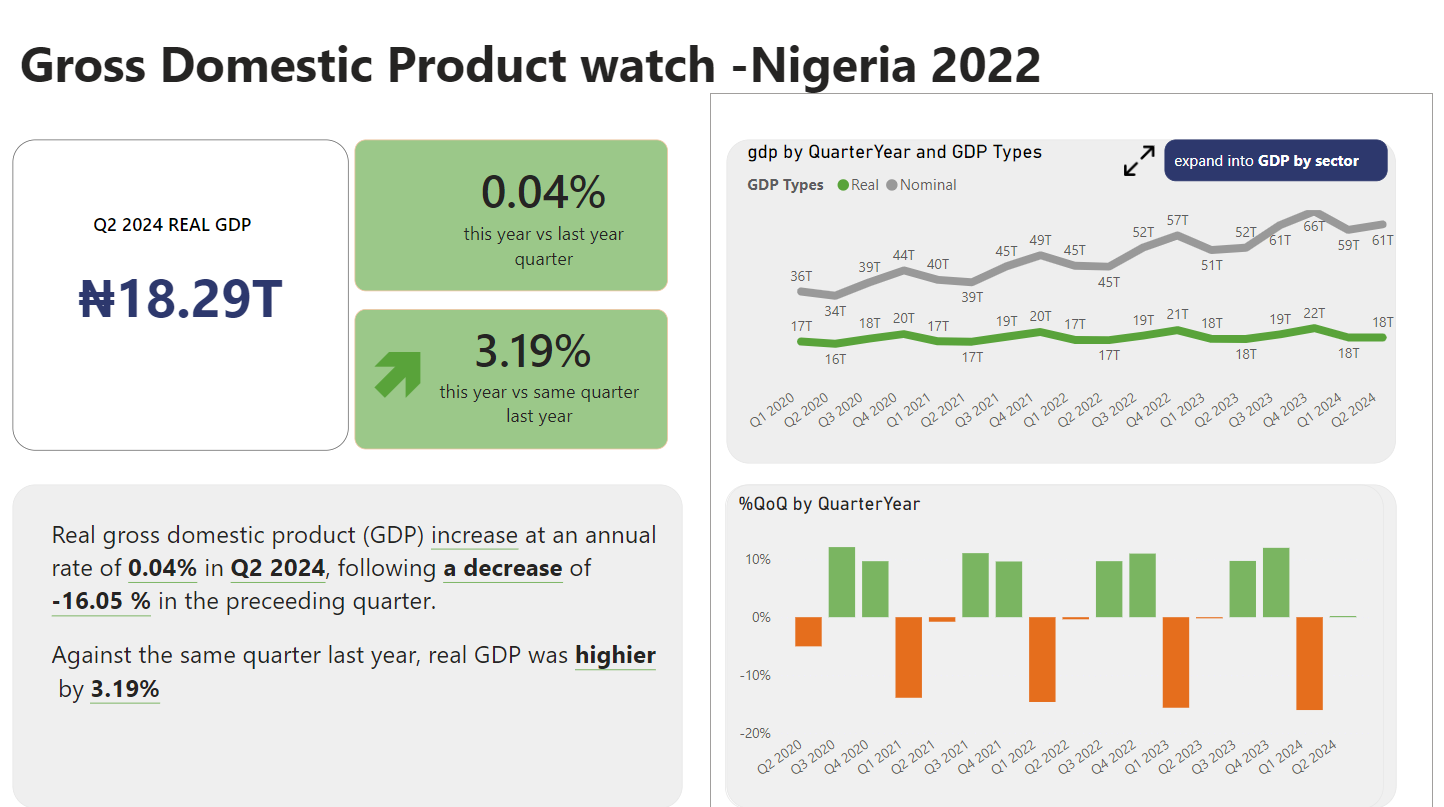

What the dashboard file says about the page in this screenshot:
{"tool":"powerbi","page":{"name":"Page 1","canvas":[1366,768],"ordinal":0},"visuals":[{"type":"textbox","box":[394.4,153.7,275.1,133.5],"z":0},{"type":"textbox","title":"YoY Backgrournd ","box":[394.4,303.4,275.1,123.4],"z":1000},{"type":"textbox","box":[95.1,52.6,956.7,85],"z":2000},{"type":"card","fields":{"Values":["Measures_.%YoY"]},"box":[479.4,303.4,141.6,68.8],"z":3000},{"type":"card","fields":{"Values":["Measures_.%QoQ"]},"box":[467.2,163.8,184.1,68.8],"z":4000},{"type":"card","fields":{"Values":["Measures_.YoY indicator"]},"box":[392.4,311.5,76.9,91],"z":5000},{"type":"card","fields":{"Values":["Measures_.Curent real gdp"]},"box":[93,153.7,295.3,273.1],"z":6000},{"type":"textbox","box":[461.2,358,190.1,54.6],"z":7000},{"type":"textbox","box":[720.8,154.6,588.2,284.4],"z":8000},{"type":"lineChart","fields":{"Y":["Measures_.gdp"],"Series":["GDP.GDP Types "],"Category":["Date_Table.QuarterYear"]},"box":[734.6,154.6,579.9,276.2],"z":9000},{"type":"textbox","box":[93.3,457.1,588.8,284.8],"z":11000},{"type":"textbox","box":[465.2,220.5,190.1,54.6],"z":12000},{"type":"textbox","box":[720.5,457.1,588.8,284.8],"z":13000},{"type":"textbox","box":[1106.2,154.8,196.3,36.7],"z":14000},{"type":"multiRowCard","fields":{"Values":["Measures_.Curent real gdp Tex"]},"box":[159.8,212.4,163.8,40.5],"z":15000},{"type":"clusteredColumnChart","fields":{"Y":["Measures_.%QoQ"],"Category":["Date_Table.QuarterYear"]},"box":[720.1,457.1,578.5,285.2],"z":16000},{"type":"textbox","title":"Report Narative","box":[122.6,480,545.4,216.5],"z":17000},{"type":"image","box":[1064.7,153.2,36.8,40],"z":18000},{"type":"group","title":"Group 1","box":[706.7,112.3,635.2,629.1],"z":19000},{"type":"group","title":"Group 2","box":[705.9,113.3,635.1,629.1],"z":20000},{"type":"card","fields":{"Values":["Measures_.QoQ indicator"]},"box":[395.8,164.4,87.8,84.6],"z":21000}]}

Visuals, with their boxes in screenshot pixels (x1, y1, x2, y2), scaled from the page's 1366x768 canvas onto the 1444x807 screenshot:
textbox: select_region(417, 162, 708, 302)
"YoY Backgrournd " textbox: select_region(417, 319, 708, 448)
textbox: select_region(101, 55, 1112, 145)
card - Measures_.%YoY: select_region(507, 319, 656, 391)
card - Measures_.%QoQ: select_region(494, 172, 688, 244)
card - Measures_.YoY indicator: select_region(415, 327, 496, 423)
card - Measures_.Curent real gdp: select_region(98, 162, 410, 448)
textbox: select_region(488, 376, 688, 434)
textbox: select_region(762, 162, 1384, 461)
lineChart - Measures_.gdp x GDP.GDP Types : select_region(777, 162, 1390, 453)
textbox: select_region(99, 480, 721, 780)
textbox: select_region(492, 232, 693, 289)
textbox: select_region(762, 480, 1384, 780)
textbox: select_region(1169, 163, 1377, 201)
multiRowCard - Measures_.Curent real gdp Tex: select_region(169, 223, 342, 266)
clusteredColumnChart - Measures_.%QoQ x Date_Table.QuarterYear: select_region(761, 480, 1373, 780)
"Report Narative" textbox: select_region(130, 504, 706, 732)
image: select_region(1125, 161, 1164, 203)
"Group 1" group: select_region(747, 118, 1419, 779)
"Group 2" group: select_region(746, 119, 1418, 780)
card - Measures_.QoQ indicator: select_region(418, 173, 511, 262)
